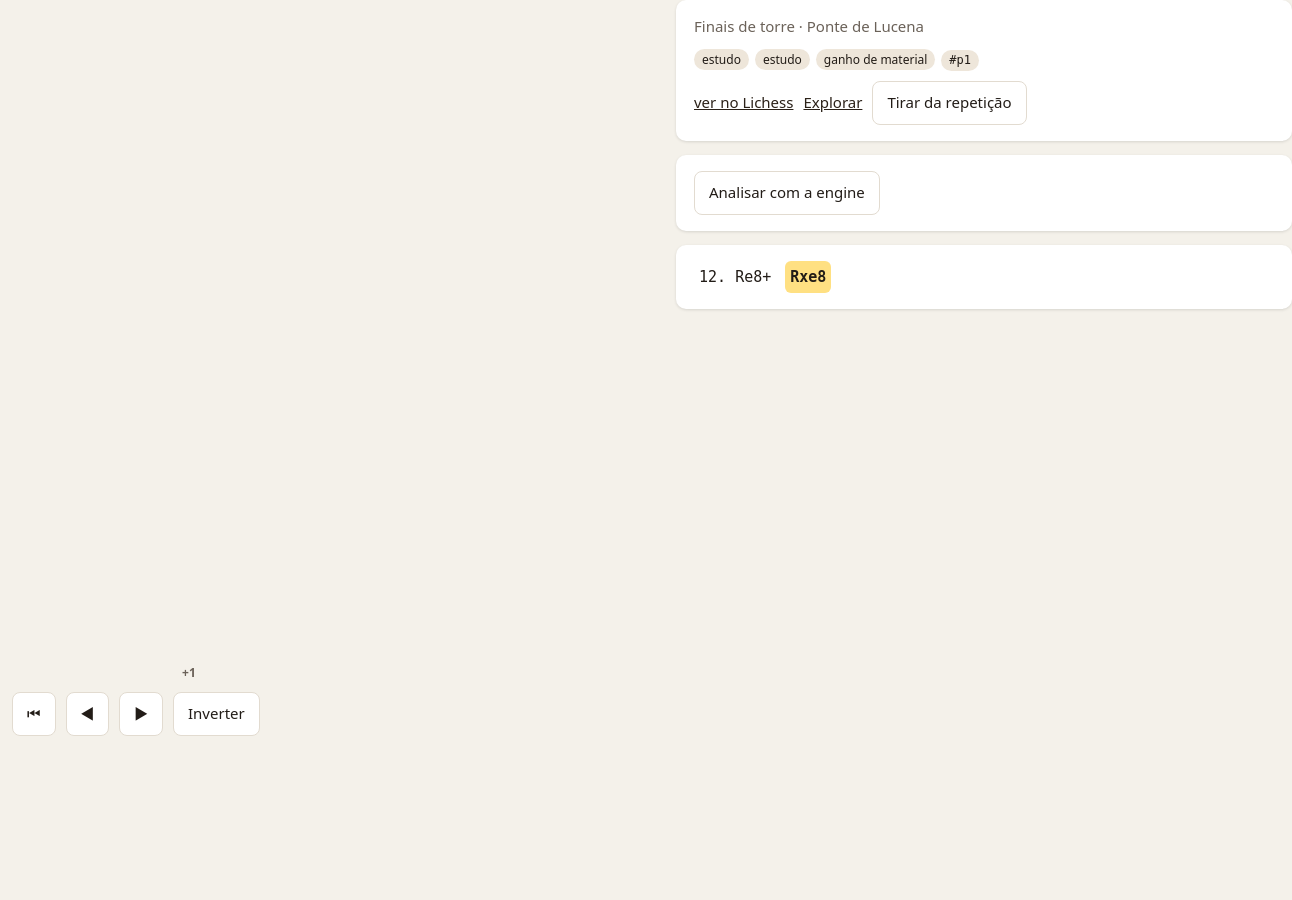
Test: a engine fica desligada até o botão ser apertado
The image size is (1292, 900).
Step 1. Click the button "Analisar com a engine" → [787, 193], box [694,171,880,215]
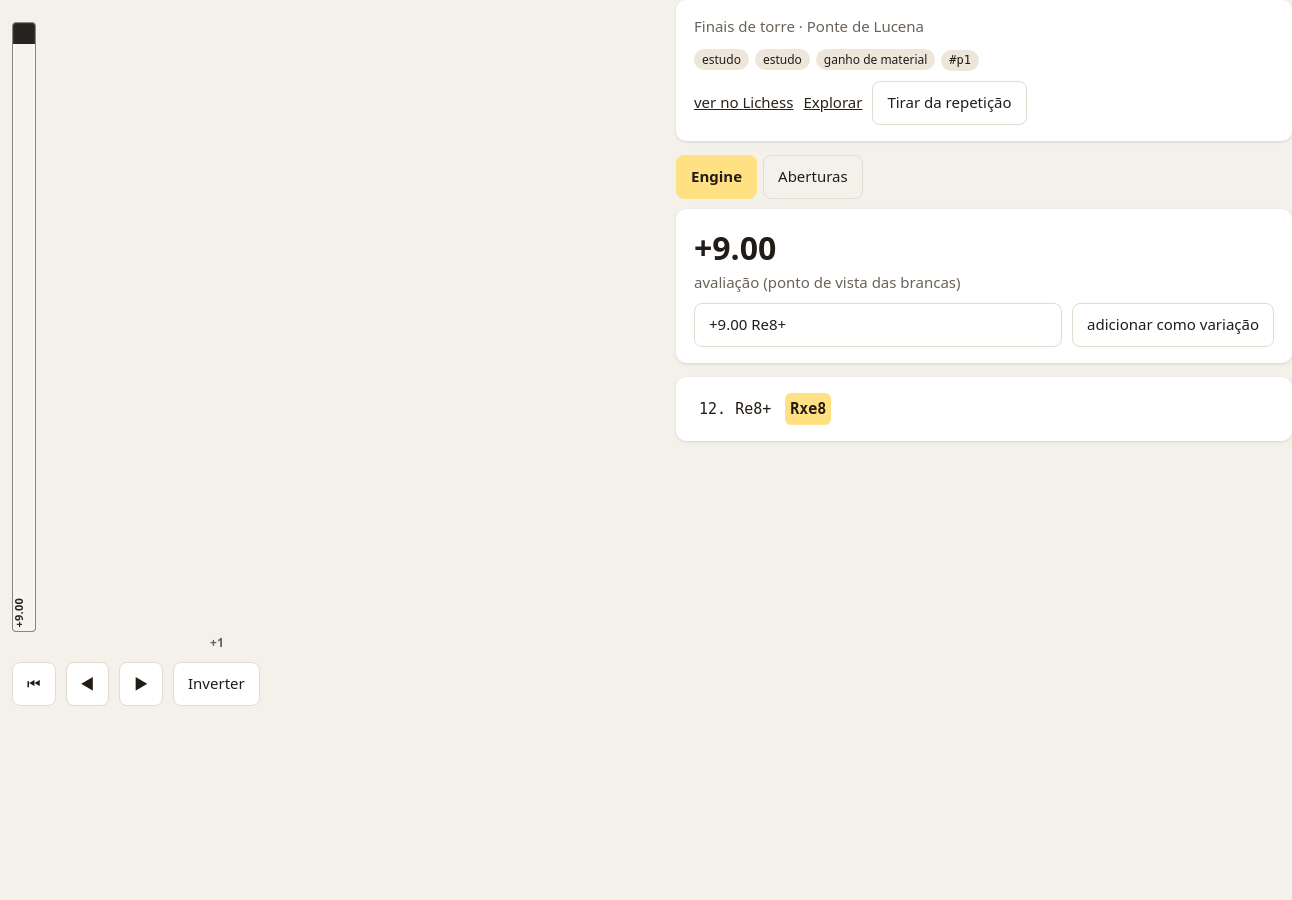
Now the button "+9.00 Re8+" is shown, box [694,303,1062,347]
